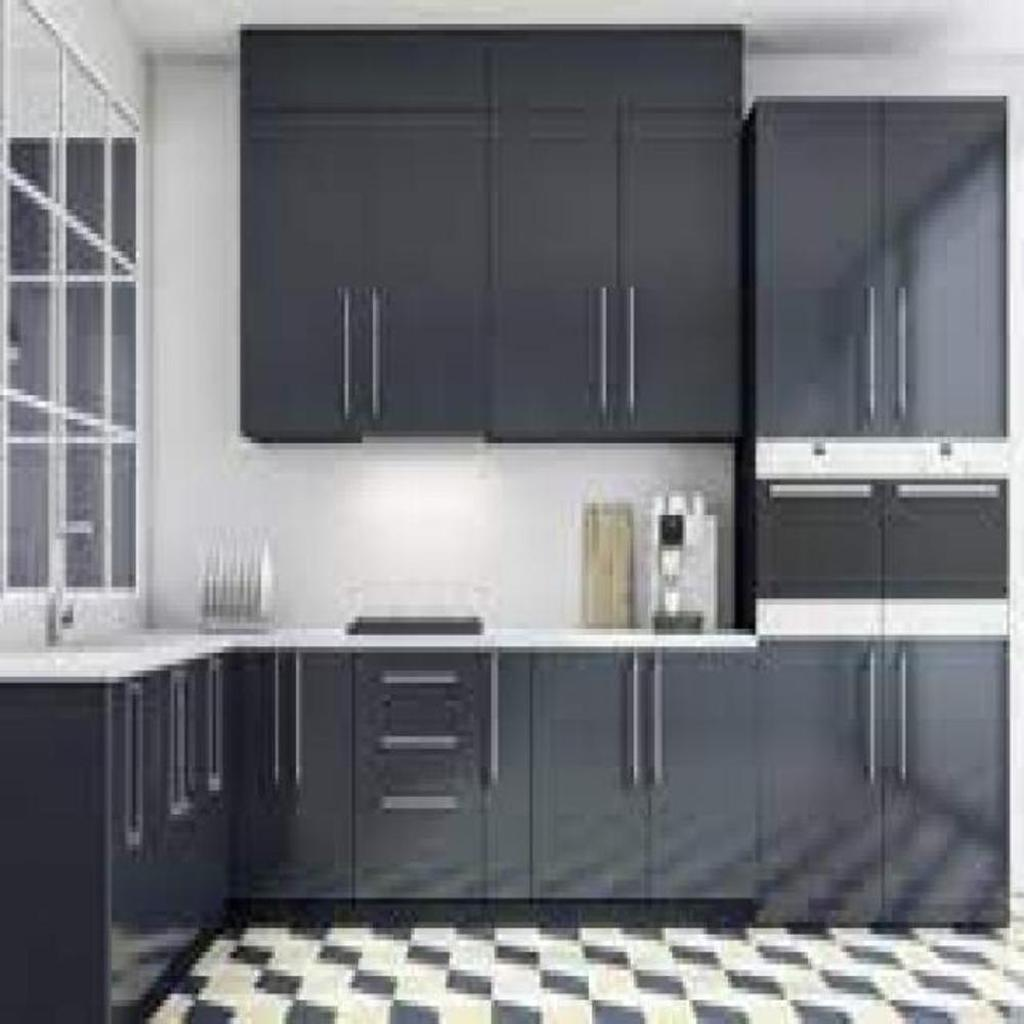cabinet: (214, 12, 751, 456), (725, 84, 1024, 635)
